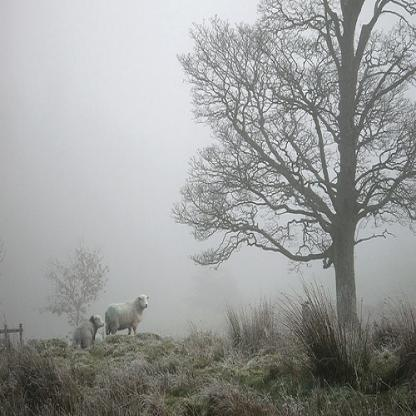sheep: (108, 294, 147, 336), (71, 315, 105, 348)
